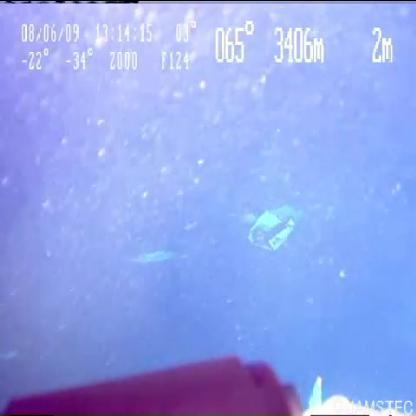Rác: (228, 183, 310, 264)
